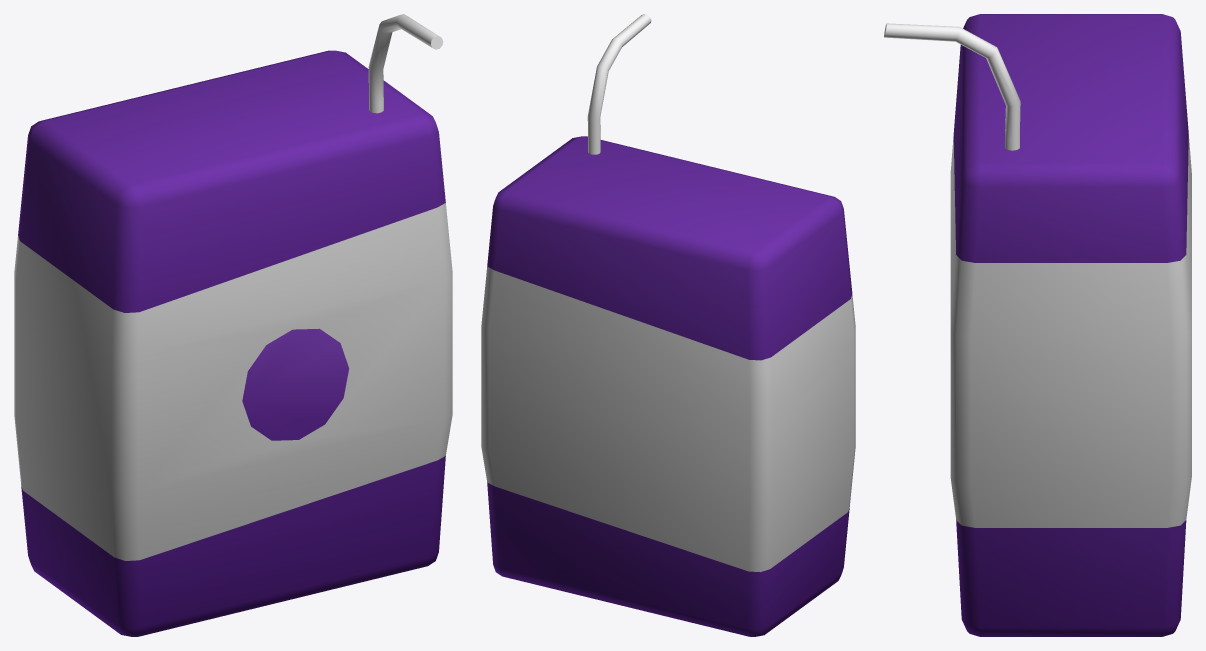
Rendered from Juice Carton_5.fbx.
3 renders of one model, left to right at view 1: azimuth 30°, elevation 25°; view 2: azimuth 150°, elevation 25°; view 3: azimuth 270°, elevation 25°, orthographic. The views are drawn at different scales.
Visible parts, largest first — view 1: Juice Carton_5; view 2: Juice Carton_5; view 3: Juice Carton_5.
Part boxes in pixels (x1,y1,x2,y2): Juice Carton_5: (14,14,452,636); Juice Carton_5: (481,14,855,636); Juice Carton_5: (884,14,1191,636).
Bounding box in the file's own units: 0.0605 × 0.0971 × 0.0454.
Materials: 1 (1 with a texture image).
